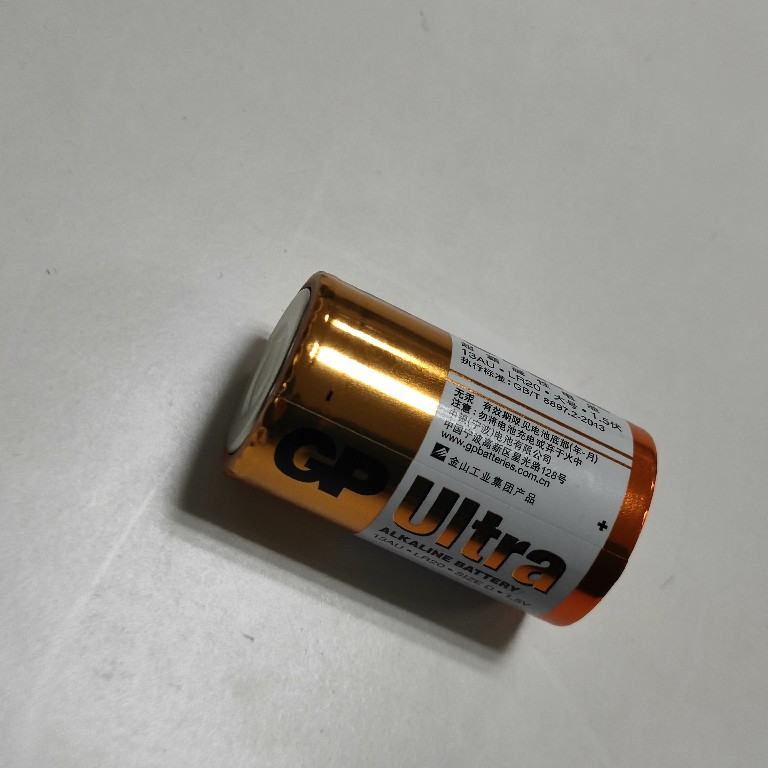charge: (212, 265, 660, 630)
